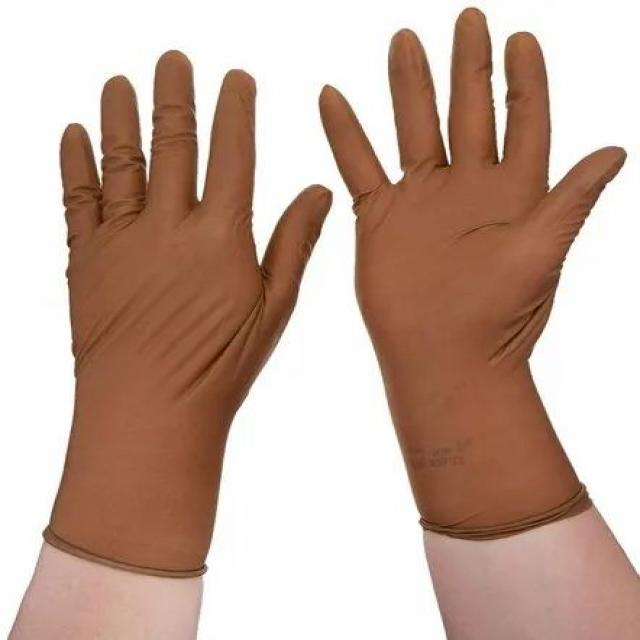Gloves: (313, 8, 640, 461), (42, 51, 324, 544)
